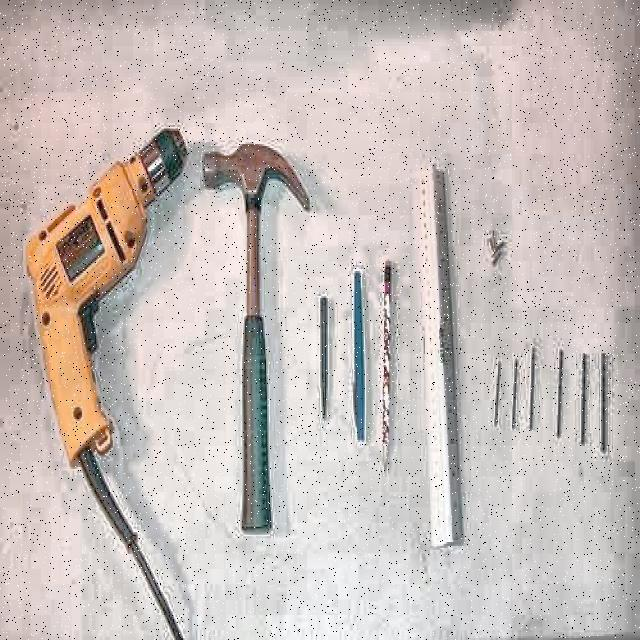hammer: (202, 142, 311, 538)
